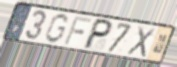3: (24, 9, 47, 42)
7: (106, 22, 134, 54)
F: (63, 16, 94, 47)
G: (43, 13, 70, 45)
P: (81, 17, 115, 50)
X: (125, 25, 157, 59)
